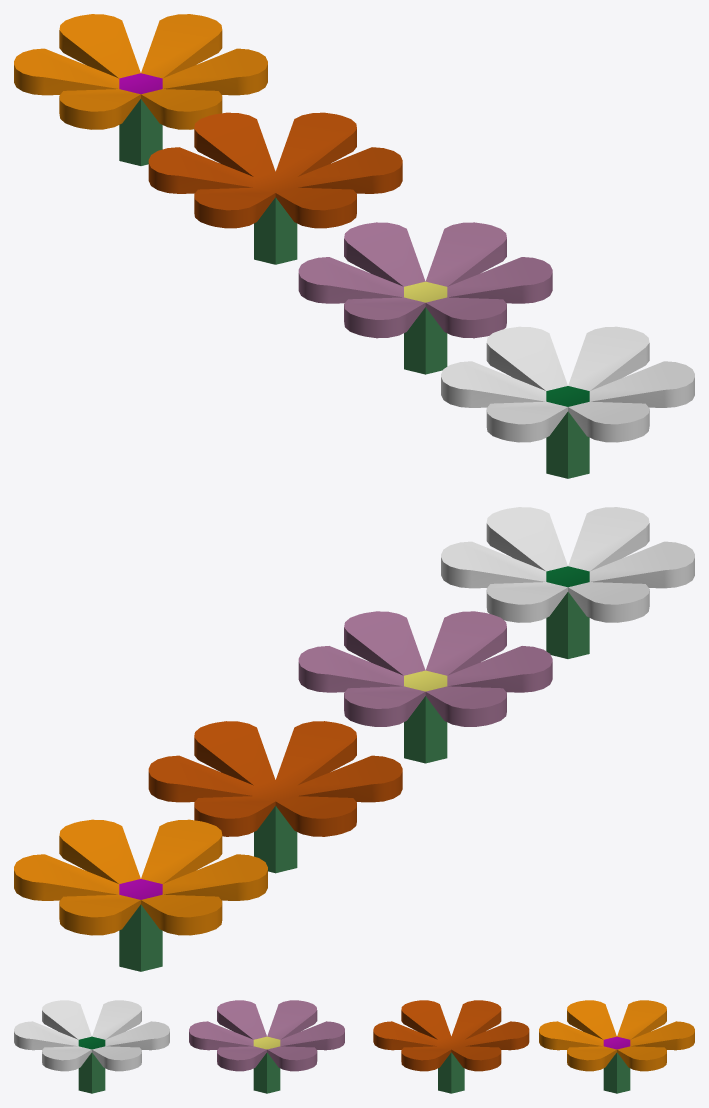
The model's file is LowPolyFlowers.fbx.
3 renders of one model, top to bottom at view 1: azimuth 30°, elevation 25°; view 2: azimuth 150°, elevation 25°; view 3: azimuth 270°, elevation 25°, orthographic. The views are drawn at different scales.
Parts seen in each view (by area): view 1: pCylinder4, pCylinder2, pCylinder1, pCylinder3; view 2: pCylinder3, pCylinder1, pCylinder4, pCylinder2; view 3: pCylinder1, pCylinder2, pCylinder3, pCylinder4.
Part boxes in pixels (<box>): pCylinder4: <box>441,326,694,478</box>; pCylinder2: <box>148,112,402,264</box>; pCylinder1: <box>298,222,552,374</box>; pCylinder3: <box>14,14,267,165</box>; pCylinder3: <box>14,819,267,971</box>; pCylinder1: <box>298,611,552,763</box>; pCylinder4: <box>441,507,694,658</box>; pCylinder2: <box>148,721,402,873</box>; pCylinder1: <box>189,1000,344,1093</box>; pCylinder2: <box>373,1000,529,1093</box>; pCylinder3: <box>539,1000,694,1093</box>; pCylinder4: <box>14,1000,169,1093</box>.
Size of the model in its own units: 3.39 by 1.51 by 16.29.
